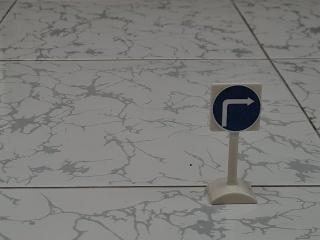right: (202, 74, 268, 139)
